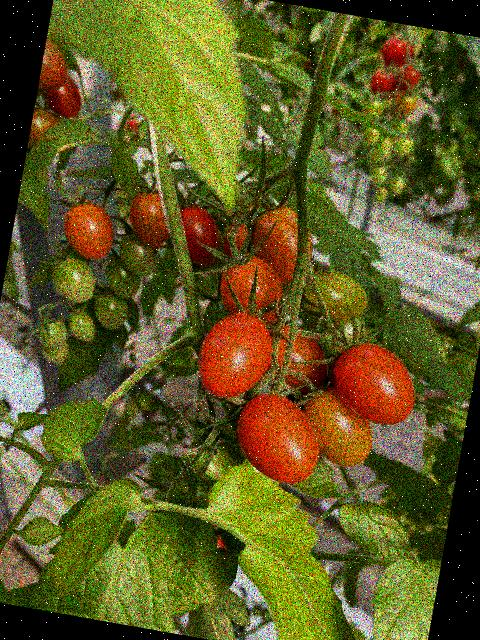l_fully_ripened: (227, 387, 327, 489), (324, 337, 423, 430), (192, 305, 279, 404), (172, 203, 223, 264), (37, 69, 86, 120)
l_green: (296, 265, 372, 328), (47, 252, 100, 306), (180, 439, 238, 484), (114, 226, 162, 278), (163, 464, 216, 510), (101, 251, 145, 300), (90, 285, 131, 331), (201, 290, 232, 337), (34, 315, 69, 350), (66, 307, 98, 342), (37, 338, 70, 366)
l_half_ripened: (294, 382, 381, 470), (243, 201, 320, 288), (213, 248, 292, 332), (258, 320, 334, 401), (57, 198, 119, 263), (124, 186, 177, 248), (37, 38, 73, 94), (27, 106, 64, 151)
